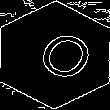O_SW: (19, 22, 91, 88)
